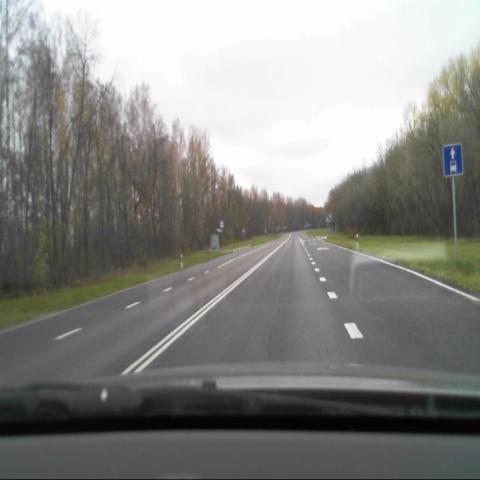5_14: (444, 141, 464, 177)
